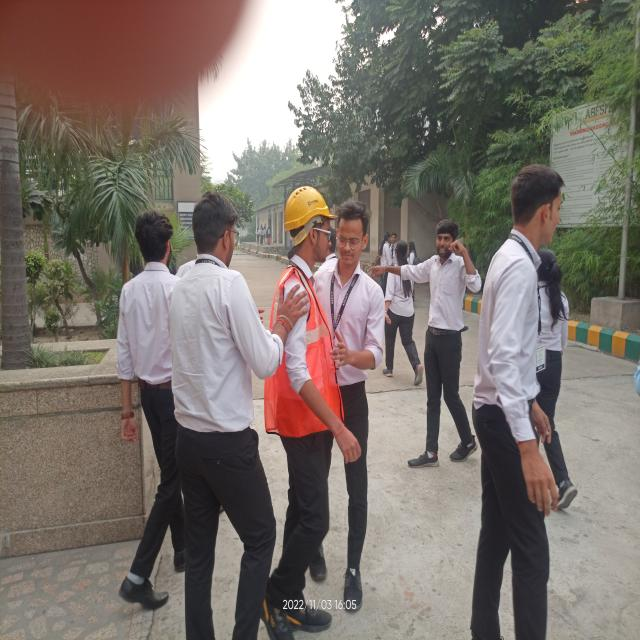safe: (270, 189, 338, 640)
unsafe: (173, 195, 278, 640), (484, 169, 560, 640), (117, 209, 192, 611), (326, 201, 386, 612), (411, 218, 478, 466), (538, 250, 579, 510), (384, 239, 422, 384)
